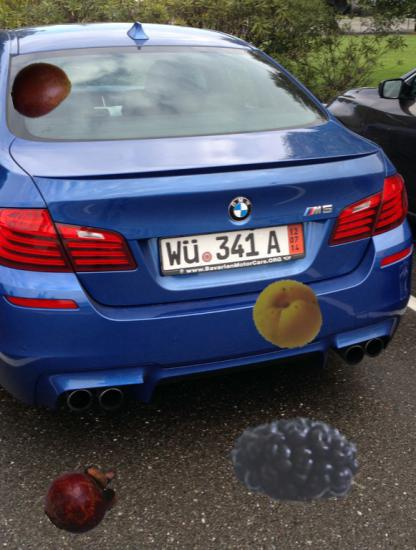Mango: (11, 59, 72, 120)
Mangostan: (43, 456, 125, 538)
Mulberry: (227, 375, 371, 519)
Peach: (251, 279, 323, 351)
